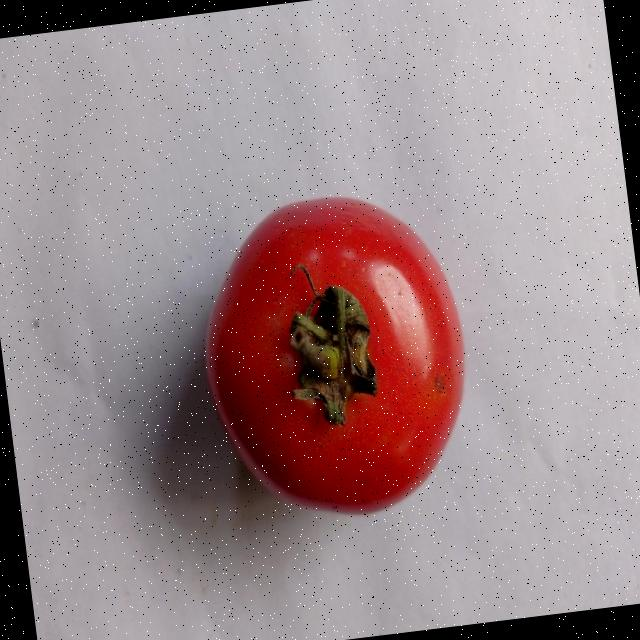Ripe: (181, 185, 486, 534)
